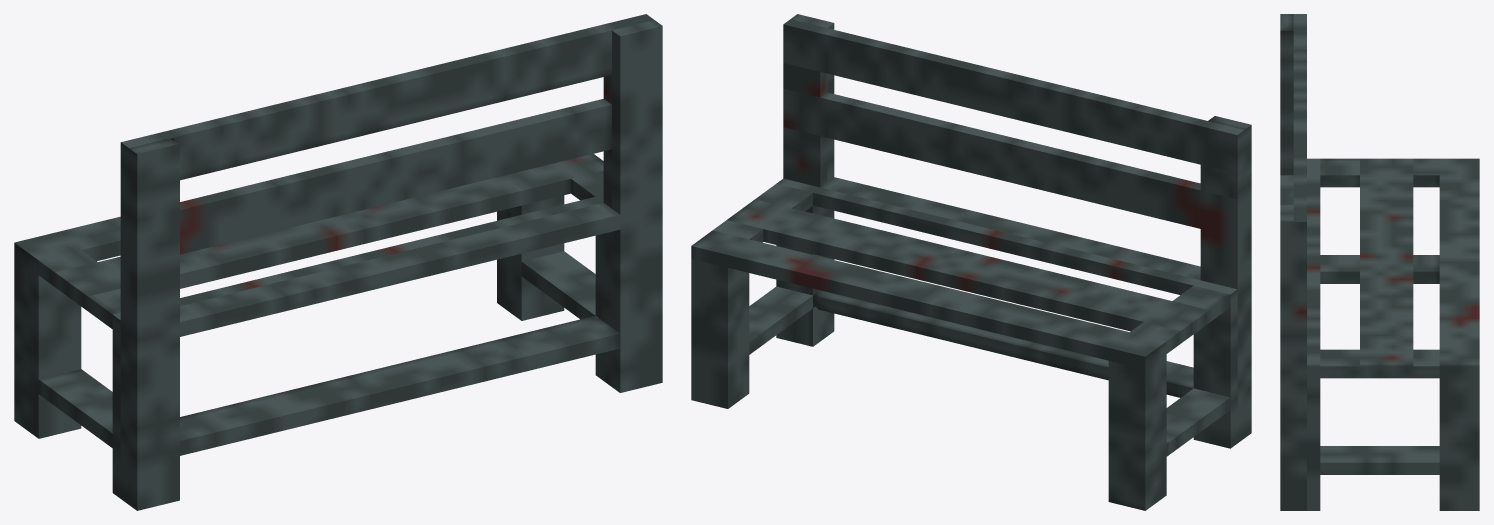
File: lawka.dae
The picture shows the model from 3 angles, left to right: view 1: azimuth 30°, elevation 25°; view 2: azimuth 150°, elevation 25°; view 3: azimuth 270°, elevation 25°; orthographic projection. The views are drawn at different scales.
Visible parts, largest first — view 1: Content; view 2: Content; view 3: Content.
Boxes of the visible parts, <box> form: Content: <box>14,14,662,510</box>; Content: <box>691,14,1251,510</box>; Content: <box>1280,14,1479,510</box>.
Size of the model in its own units: 37 by 24 by 15.
Materials: 1 (1 with a texture image).
